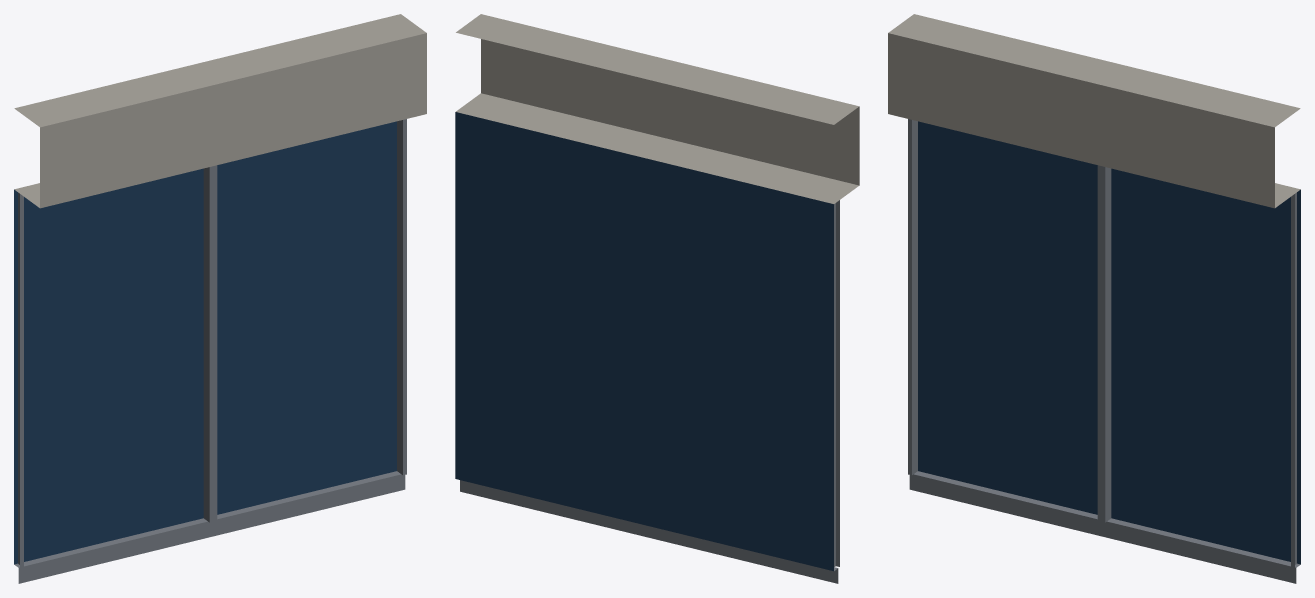
The picture shows the model from 3 angles, left to right: view 1: azimuth 30°, elevation 25°; view 2: azimuth 150°, elevation 25°; view 3: azimuth 330°, elevation 25°; orthographic projection. The views are drawn at different scales.
Parts seen in each view (by area): view 1: a2002/800/base-w1; view 2: a2002/800/base-w1; view 3: a2002/800/base-w1.
Part boxes in pixels (x1,y1,x2,y2): a2002/800/base-w1: (14, 14, 426, 583); a2002/800/base-w1: (455, 14, 859, 583); a2002/800/base-w1: (888, 14, 1300, 583).
Bounding box in the file's own units: 3 × 3.5 × 0.35.
